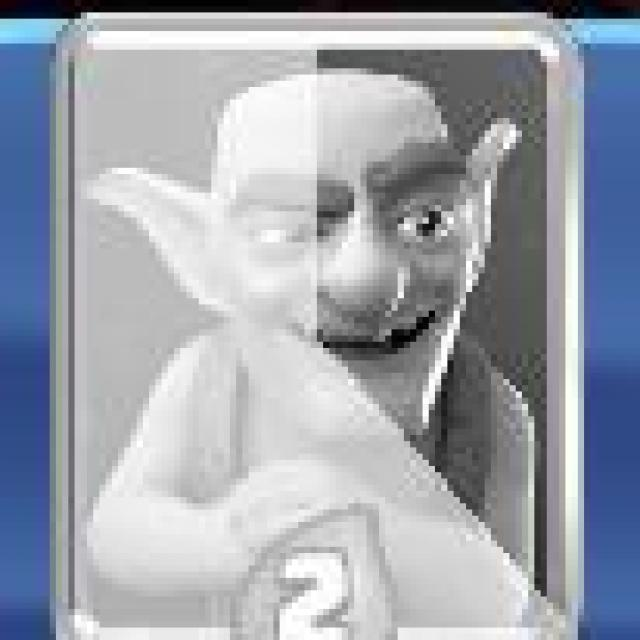Goblins: (52, 14, 581, 640)
